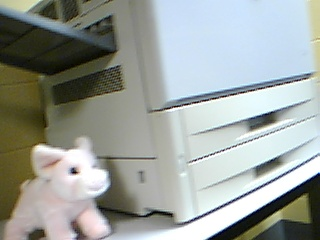piggy: (1, 135, 113, 240)
